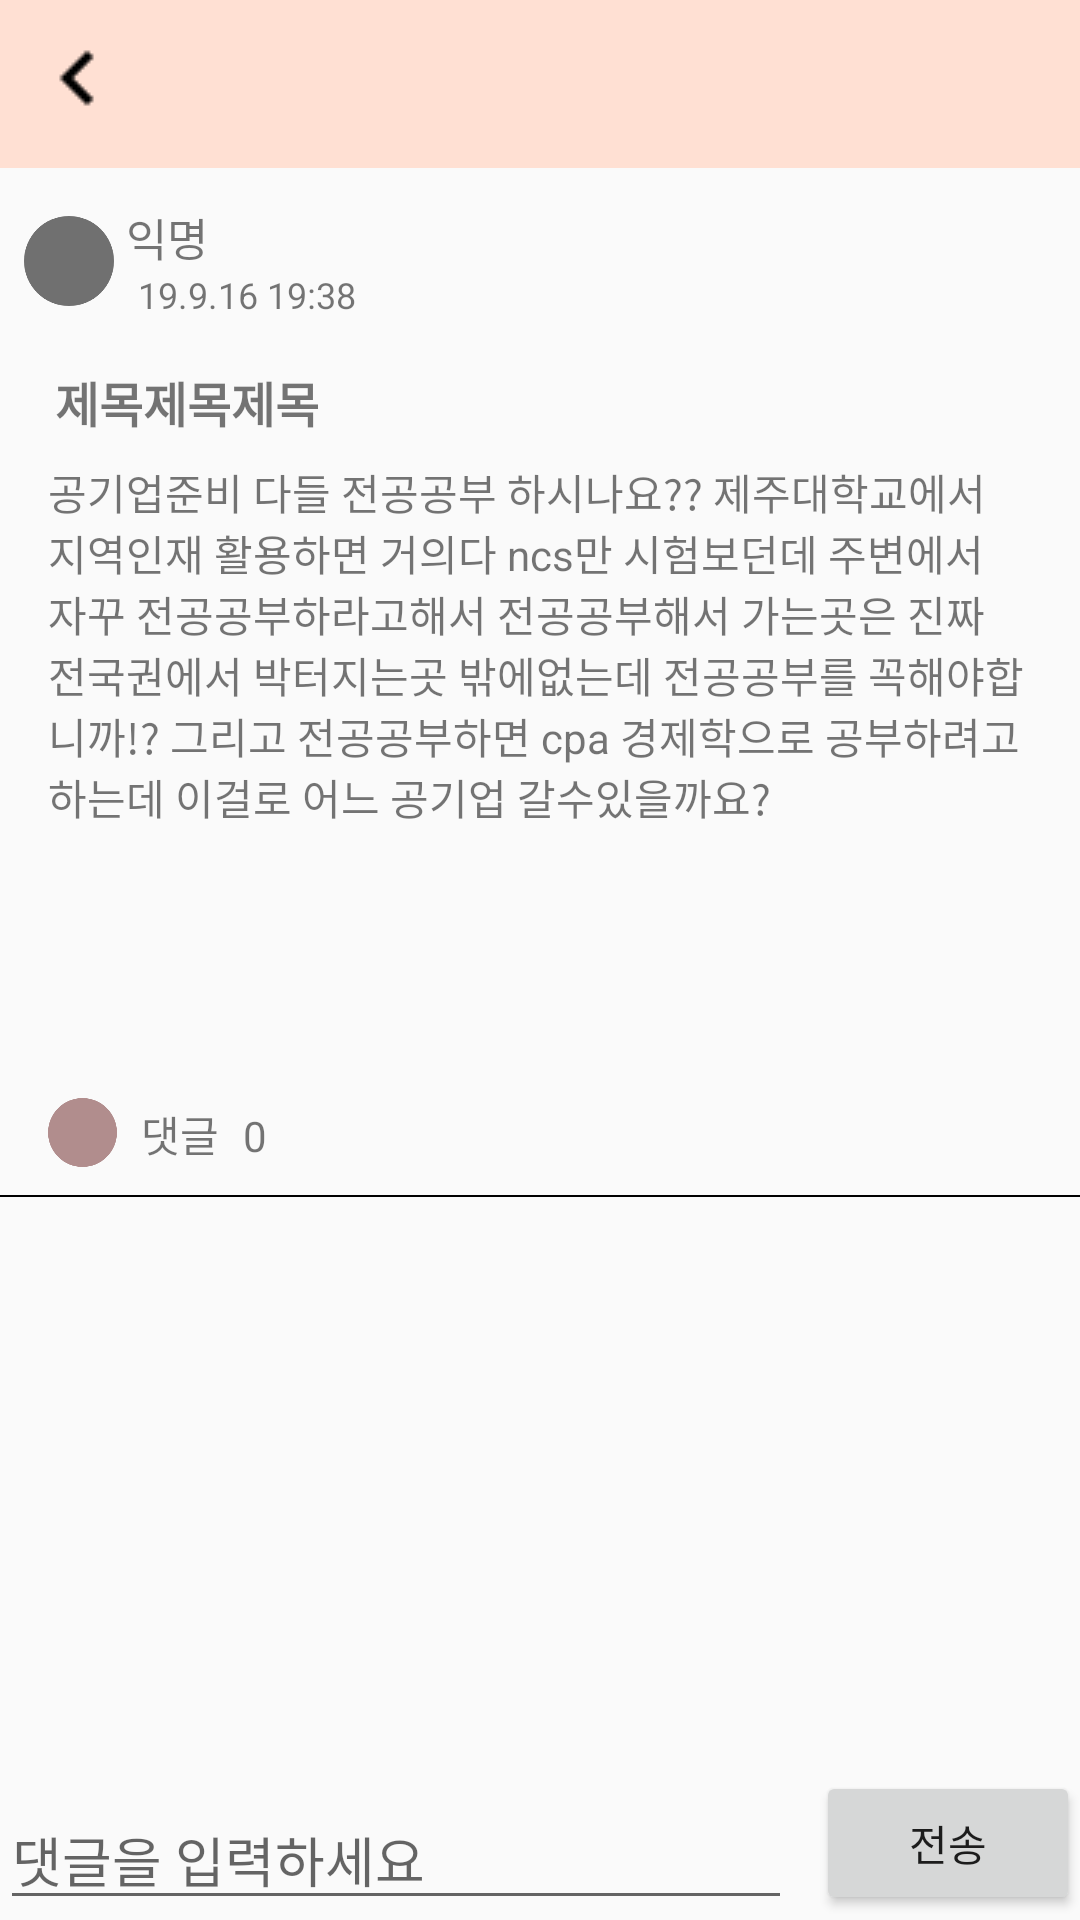

Icon bounding boxes for this 1080 x 1920 phone screenshot, format (x1, y1, x2, y2):
backbutton: (59, 50, 94, 106)
